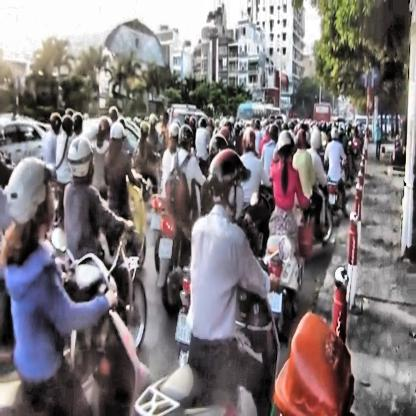wear: (208, 149, 242, 215), (69, 135, 96, 182), (275, 129, 295, 166), (108, 122, 126, 152), (178, 123, 195, 151), (168, 120, 182, 148), (49, 108, 62, 134), (140, 118, 149, 140), (330, 126, 342, 142), (148, 113, 157, 133)
